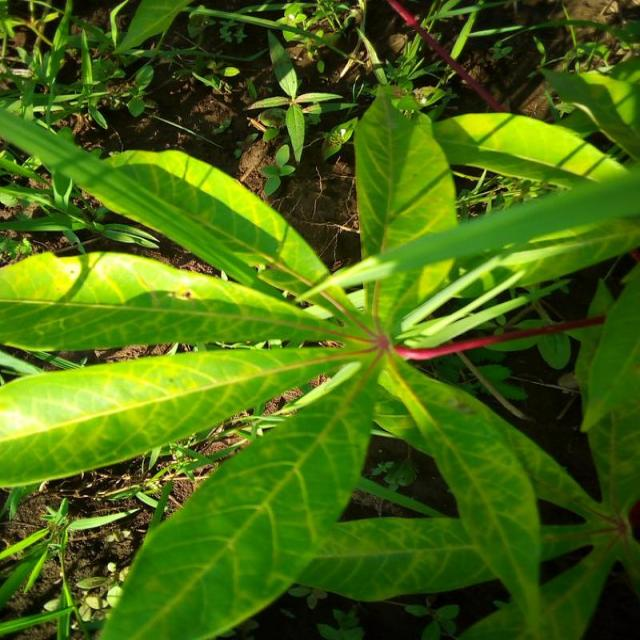cassava leaf: (1, 73, 638, 638), (98, 357, 376, 638), (0, 344, 340, 488), (0, 248, 346, 351), (352, 84, 460, 337)
